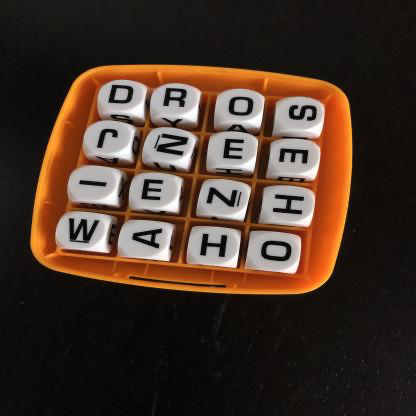a: (121, 224, 168, 257)
d: (102, 83, 146, 114)
e: (270, 140, 321, 174), (131, 175, 182, 209), (210, 133, 255, 167)
h: (190, 229, 242, 266), (263, 186, 316, 222)
i: (70, 167, 118, 202)
j: (83, 122, 135, 156)
n: (145, 127, 194, 164)
o: (249, 235, 302, 273), (217, 92, 266, 124)
r: (154, 84, 201, 118)
s: (275, 97, 325, 130)
w: (61, 212, 107, 250)
z: (198, 181, 249, 217)
